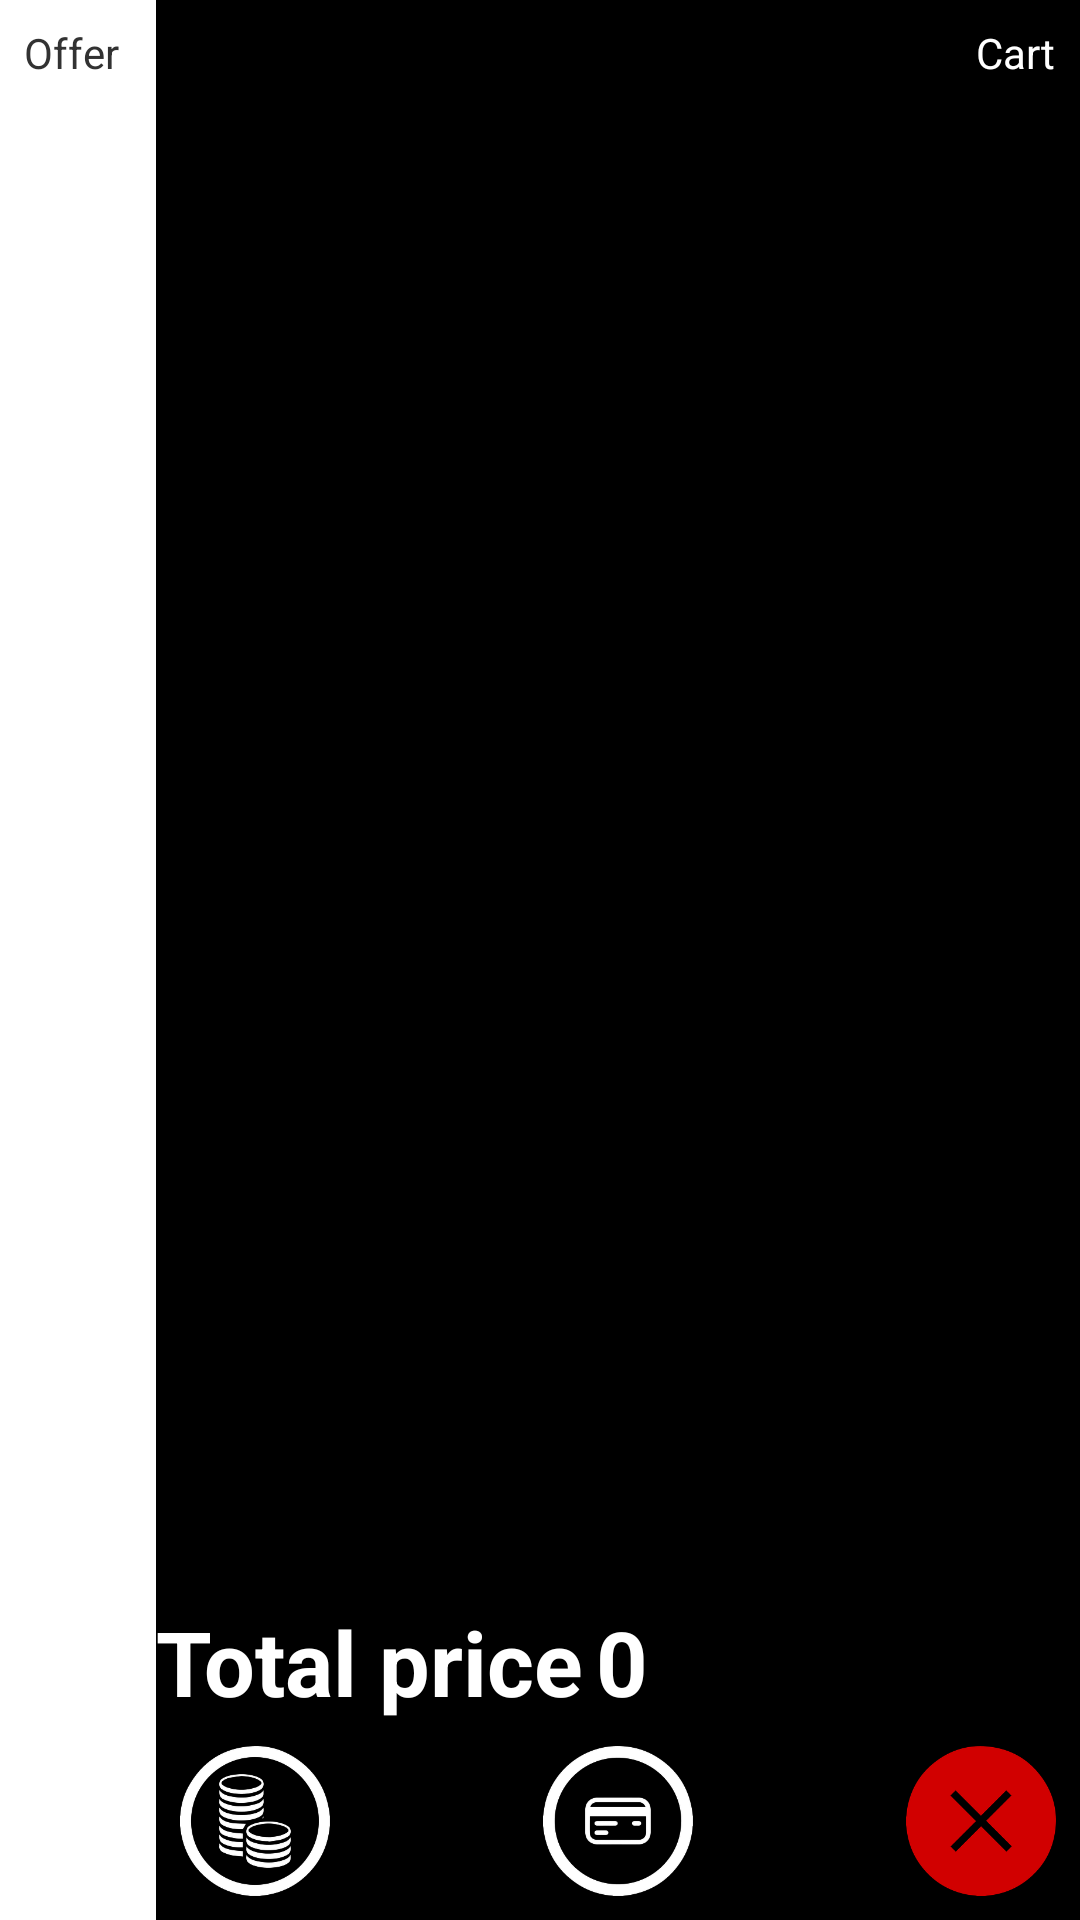

Where icons sit on this 1080 x 1920 app screen, as (x1, y1, x2, y2):
coiny: (180, 1746, 330, 1896)
delete: (906, 1746, 1056, 1896)
